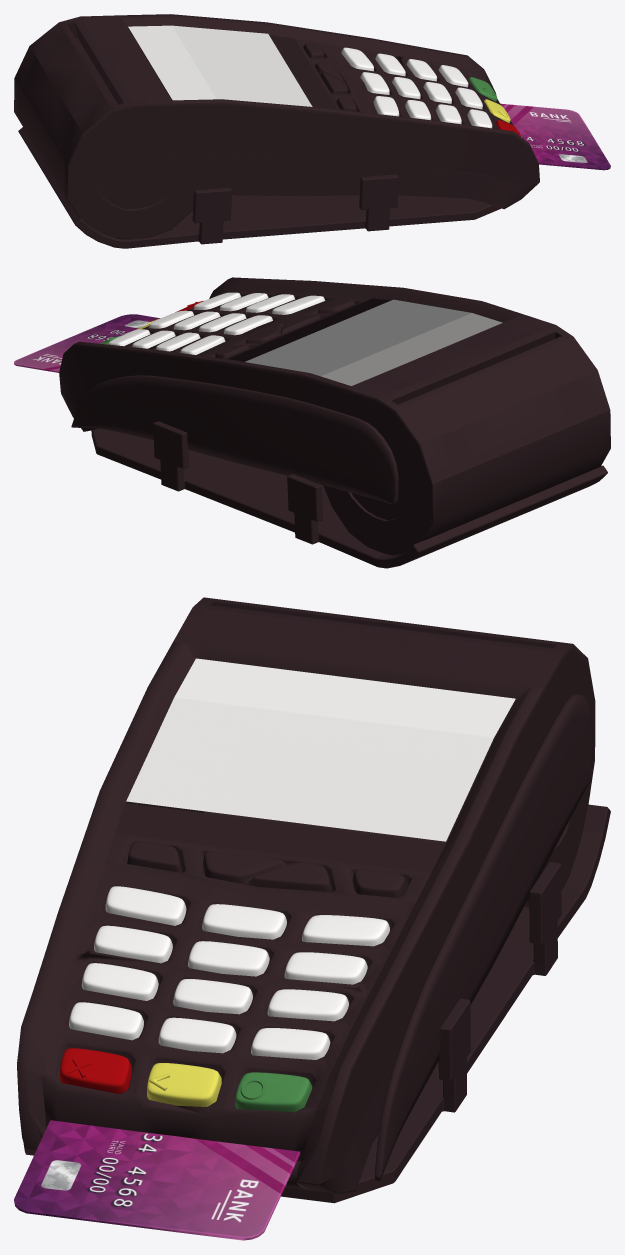
File: POSMachine-transformed.glb
3 renders of one model, top to bottom at view 1: azimuth 30°, elevation 25°; view 2: azimuth 150°, elevation 25°; view 3: azimuth 270°, elevation 25°, orthographic. The views are drawn at different scales.
Parts seen in each view (by area): view 1: POS_machine:polySurface29_12, POS_machine:polySurface5_1, polySurface3_0, POS_machine:polySurface16_7, POS_machine:polySurface21_11, POS_machine:polySurface11_3, POS_machine:polySurface17_8, POS_machine:polySurface14_5, POS_machine:polySurface20_10, POS_machine:polySurface10_2, POS_machine:polySurface13_4, POS_machine:polySurface19_9 (+4 smaller); view 2: POS_machine:polySurface29_12, POS_machine:polySurface5_1, polySurface3_0, POS_machine:polySurface10_2, POS_machine:polySurface21_11, POS_machine:polySurface16_7, POS_machine:polySurface15_6, POS_machine:polySurface17_8, POS_machine:polySurface9_17, POS_machine:polySurface20_10, POS_machine:polySurface11_3, POS_machine:polySurface14_5 (+2 smaller); view 3: POS_machine:polySurface29_12, POS_machine:polySurface5_1, polySurface3_0, POS_machine:polySurface18_22, POS_machine:polySurface23_23, POS_machine:polySurface7_24, POS_machine:polySurface21_11, POS_machine:polySurface16_7, POS_machine:polySurface17_8, POS_machine:polySurface10_2, POS_machine:polySurface20_10, POS_machine:polySurface19_9 (+6 smaller).
Part boxes in pixels (bbox=[...]): POS_machine:polySurface29_12: bbox=[14, 14, 539, 248]; POS_machine:polySurface5_1: bbox=[128, 25, 312, 106]; polySurface3_0: bbox=[500, 103, 610, 170]; POS_machine:polySurface16_7: bbox=[341, 47, 373, 71]; POS_machine:polySurface21_11: bbox=[360, 72, 389, 94]; POS_machine:polySurface11_3: bbox=[375, 53, 405, 76]; POS_machine:polySurface17_8: bbox=[392, 77, 420, 99]; POS_machine:polySurface14_5: bbox=[406, 59, 437, 81]; POS_machine:polySurface20_10: bbox=[423, 82, 451, 103]; POS_machine:polySurface10_2: bbox=[373, 96, 399, 116]; POS_machine:polySurface13_4: bbox=[438, 65, 468, 87]; POS_machine:polySurface19_9: bbox=[455, 87, 482, 109]; POS_machine:polySurface29_12: bbox=[59, 277, 610, 568]; POS_machine:polySurface5_1: bbox=[245, 299, 502, 385]; polySurface3_0: bbox=[14, 314, 160, 372]; POS_machine:polySurface10_2: bbox=[272, 295, 325, 314]; POS_machine:polySurface21_11: bbox=[224, 315, 272, 335]; POS_machine:polySurface16_7: bbox=[180, 335, 225, 354]; POS_machine:polySurface15_6: bbox=[246, 294, 294, 312]; POS_machine:polySurface17_8: bbox=[199, 313, 246, 332]; POS_machine:polySurface9_17: bbox=[220, 293, 268, 311]; POS_machine:polySurface20_10: bbox=[174, 311, 220, 330]; POS_machine:polySurface11_3: bbox=[156, 332, 200, 351]; POS_machine:polySurface14_5: bbox=[132, 330, 175, 348]; POS_machine:polySurface29_12: bbox=[17, 597, 610, 1203]; POS_machine:polySurface5_1: bbox=[126, 658, 515, 841]; polySurface3_0: bbox=[14, 1120, 300, 1240]; POS_machine:polySurface18_22: bbox=[147, 1063, 221, 1106]; POS_machine:polySurface23_23: bbox=[235, 1072, 312, 1112]; POS_machine:polySurface7_24: bbox=[60, 1048, 132, 1094]; POS_machine:polySurface21_11: bbox=[202, 904, 286, 939]; POS_machine:polySurface16_7: bbox=[302, 915, 389, 946]; POS_machine:polySurface17_8: bbox=[188, 941, 269, 976]; POS_machine:polySurface10_2: bbox=[105, 886, 186, 925]; POS_machine:polySurface20_10: bbox=[173, 979, 252, 1014]; POS_machine:polySurface19_9: bbox=[158, 1017, 236, 1053].
Bounding box in the file's own units: 1.44 × 0.4192 × 0.8121.
2 materials, 2 textured.
